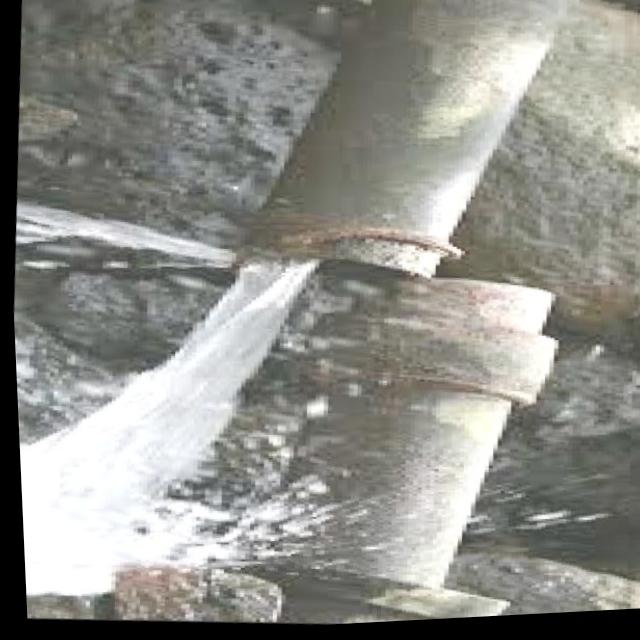leak: (20, 262, 316, 594)
